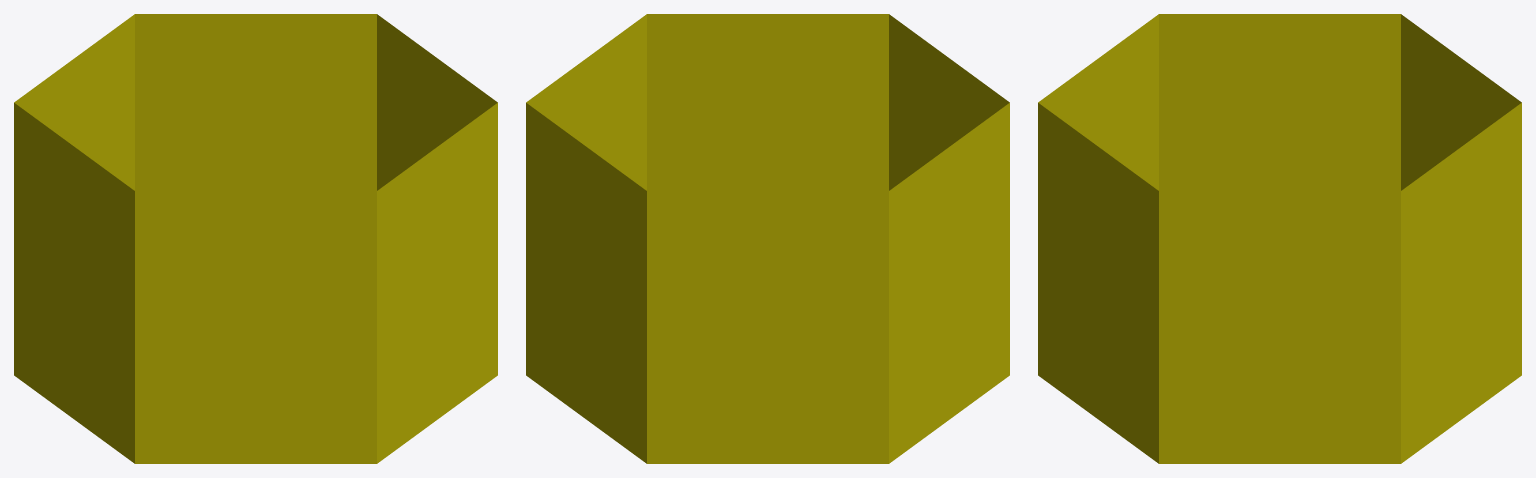
3 renders of one model, left to right at view 1: azimuth 30°, elevation 25°; view 2: azimuth 150°, elevation 25°; view 3: azimuth 270°, elevation 25°, orthographic.
Visible parts, largest first — view 1: Cylinder_000; view 2: Cylinder_000; view 3: Cylinder_000.
Part boxes in pixels (left/top/right/bottom): Cylinder_000: left=14, top=14, right=497, bottom=463; Cylinder_000: left=526, top=14, right=1009, bottom=463; Cylinder_000: left=1038, top=14, right=1521, bottom=463.
Bounding box in the file's own units: 2.84 × 3.28 × 2.04.
